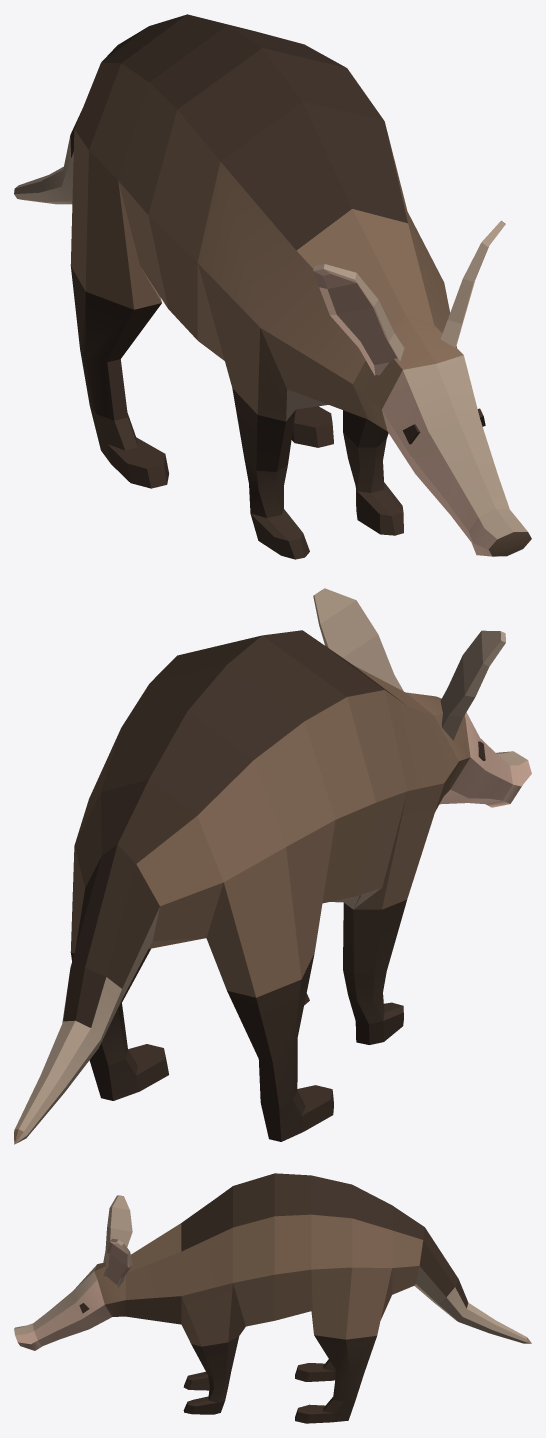
3 views of the same model, one above another, from view 1: azimuth 30°, elevation 25°; view 2: azimuth 150°, elevation 25°; view 3: azimuth 270°, elevation 25° (orthographic). The views are drawn at different scales.
Visible parts, largest first — view 1: Geo_Aardvark; view 2: Geo_Aardvark; view 3: Geo_Aardvark.
Boxes of the visible parts, x1,y1,x2,y2 form: Geo_Aardvark: [14, 14, 531, 559]; Geo_Aardvark: [14, 588, 531, 1144]; Geo_Aardvark: [14, 1173, 531, 1423].
Bounding box in the file's own units: 41.73 × 75.99 × 158.
1 material, 1 textured.
